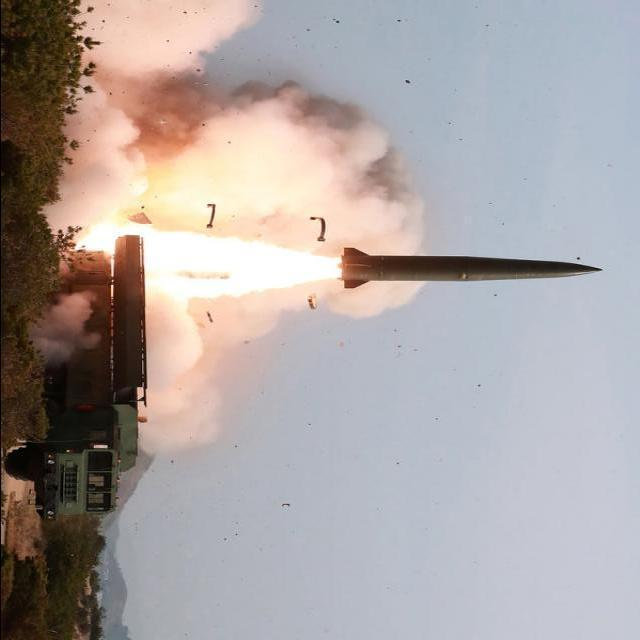missile: (342, 235, 604, 298)
